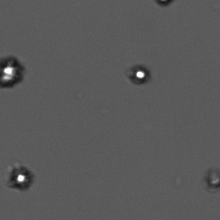Dead Cell: (204, 166, 219, 193)
Living Cell: (1, 54, 27, 92), (5, 161, 34, 193), (127, 61, 152, 88)
